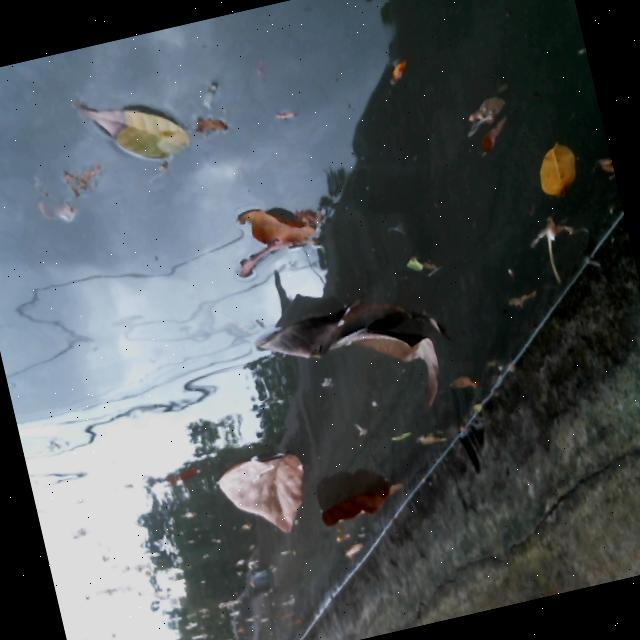Big-leaf: (247, 274, 453, 441), (75, 78, 202, 201), (210, 185, 343, 288), (207, 437, 322, 554), (317, 464, 412, 535)
Small-leaf: (446, 38, 539, 169), (378, 395, 436, 451), (441, 356, 493, 403), (372, 51, 428, 94), (400, 234, 438, 290), (540, 151, 580, 196), (411, 431, 453, 469), (339, 536, 380, 571), (186, 107, 223, 142)
